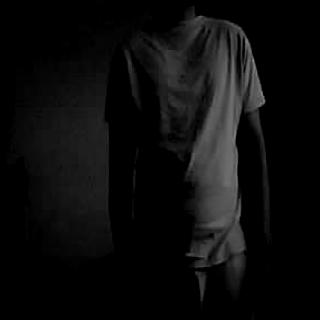White Sweatpants: (131, 254, 257, 320)
Yellow T-Shirt: (109, 23, 268, 262)
